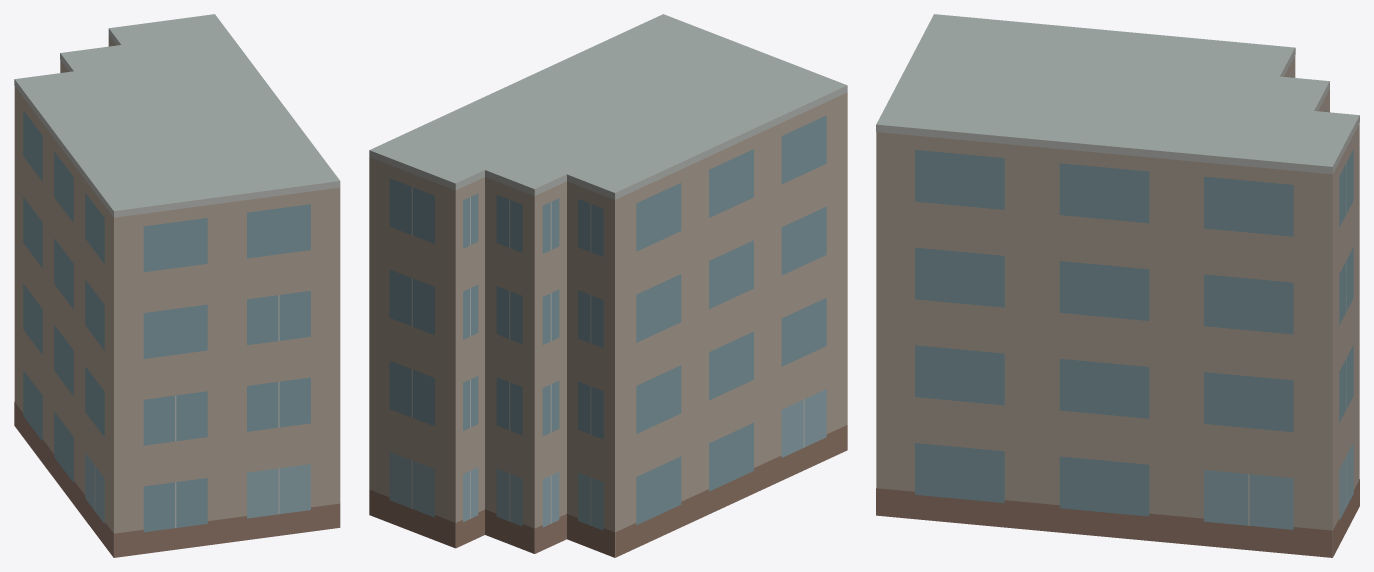
File: survey-upis-32817396.glb
3 views of the same model, side by side, from view 1: azimuth 30°, elevation 25°; view 2: azimuth 150°, elevation 25°; view 3: azimuth 270°, elevation 25° (orthographic). The views are drawn at different scales.
Parts seen in each view (by area): view 1: survey-upis-32817396.tmp; view 2: survey-upis-32817396.tmp; view 3: survey-upis-32817396.tmp.
Part boxes in pixels (x1,y1,x2,y2): survey-upis-32817396.tmp: (14, 14, 340, 557); survey-upis-32817396.tmp: (369, 14, 847, 557); survey-upis-32817396.tmp: (876, 14, 1359, 557).
Bounding box in the file's own units: 10.83 × 12.9 × 14.47.
